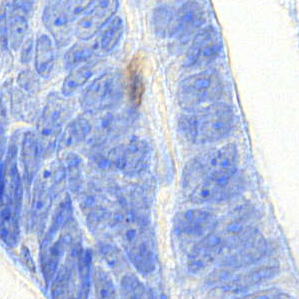Lymphocyte: (124, 52, 151, 108)
